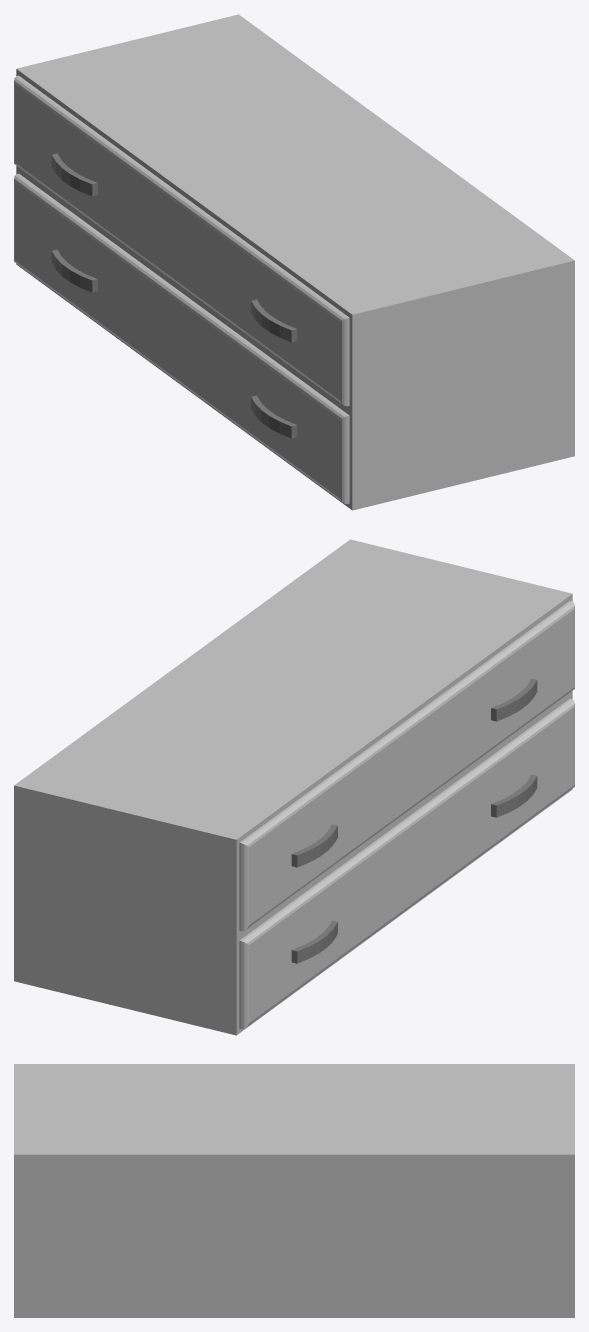
File: Wardrobe_2.fbx
The picture shows the model from 3 angles, top to bottom: view 1: azimuth 30°, elevation 25°; view 2: azimuth 150°, elevation 25°; view 3: azimuth 270°, elevation 25°; orthographic projection. The views are drawn at different scales.
Parts seen in each view (by area): view 1: Wardrobe_2, Wardrobe_2 Door_2, Wardrobe_2 Door_1; view 2: Wardrobe_2, Wardrobe_2 Door_2, Wardrobe_2 Door_1; view 3: Wardrobe_2.
Part boxes in pixels (bbox=[...]): Wardrobe_2: bbox=[16, 14, 574, 510]; Wardrobe_2 Door_2: bbox=[14, 173, 349, 504]; Wardrobe_2 Door_1: bbox=[14, 75, 349, 406]; Wardrobe_2: bbox=[14, 539, 572, 1035]; Wardrobe_2 Door_2: bbox=[239, 698, 574, 1029]; Wardrobe_2 Door_1: bbox=[239, 600, 574, 931]; Wardrobe_2: bbox=[14, 1064, 574, 1317].
Size of the model in its own units: 0.521 by 0.4043 by 1.26.
